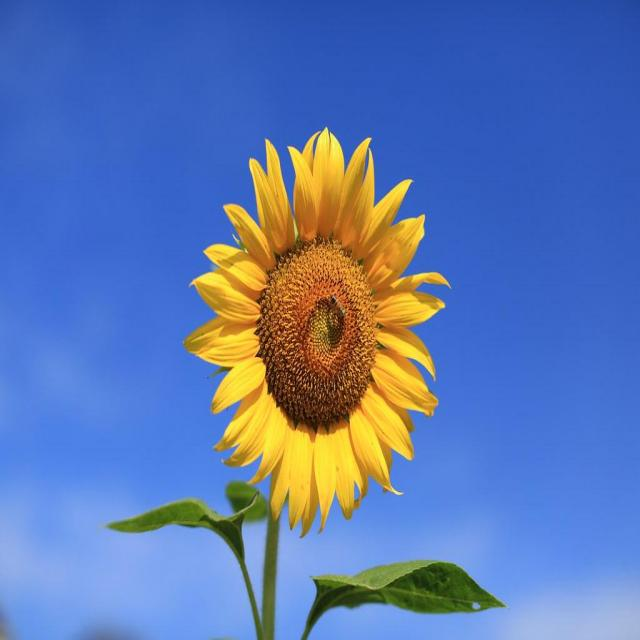organic waste: (180, 129, 456, 528)
